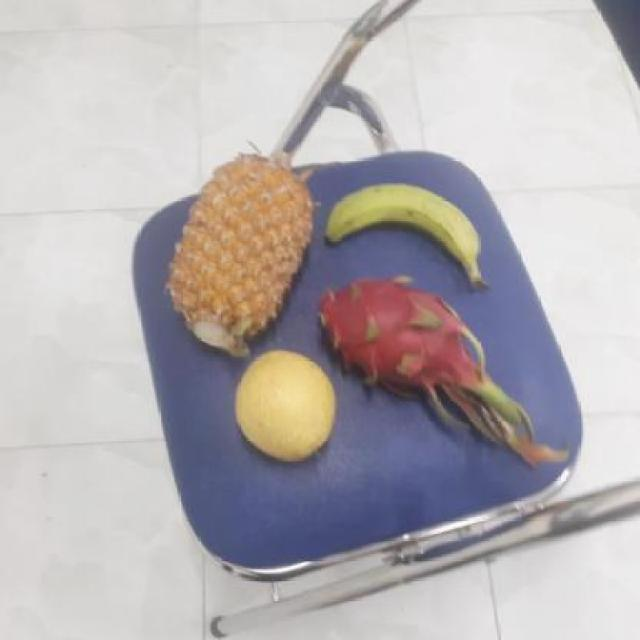banana: (323, 181, 485, 284)
dragon fruit: (308, 276, 480, 409)
pear: (230, 352, 338, 460)
pineapple: (165, 154, 312, 357)
